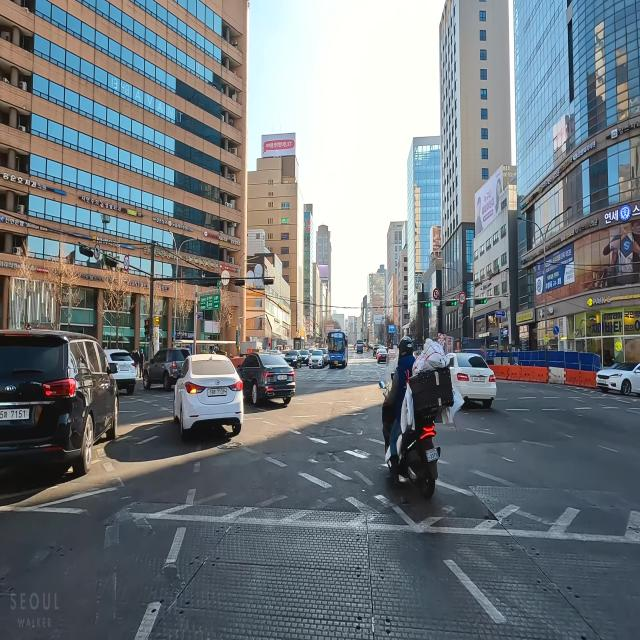Green Light: (428, 302, 431, 308), (484, 299, 487, 304), (454, 302, 457, 306)
